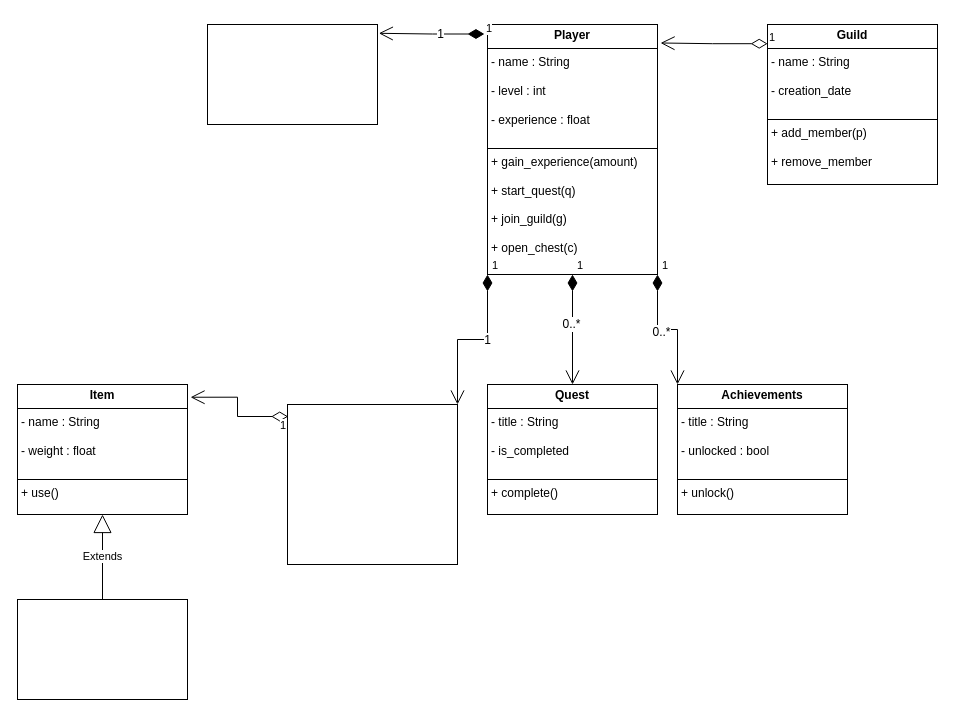
The diagram is 955 pixels wide and 718 high, and some of its shapes have lost their labels. Here are the shapes that lost their labels. From the top down, the box of each, then its label:
(206, 24, 378, 124): Chest - locked : bool + open()
(286, 404, 458, 564): Inventory - size : int - items : list + add_item(i) + remove_item(i)
(16, 598, 188, 700): Weapon - damage : int + attack()
